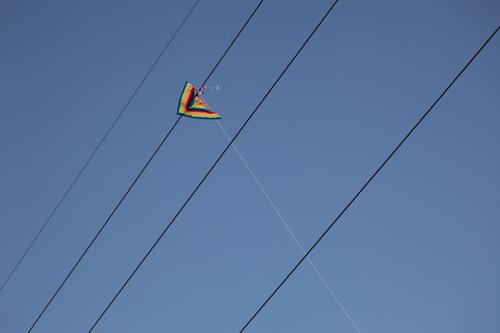kite: (173, 77, 222, 132)
